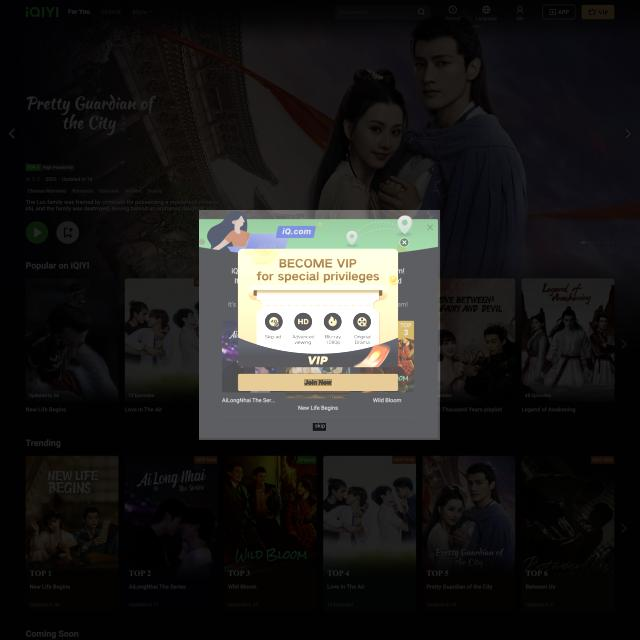CheckBox: (240, 373, 400, 392)
ImageView: (199, 210, 442, 440)
data feed: (306, 379, 334, 386), (313, 424, 326, 432)
